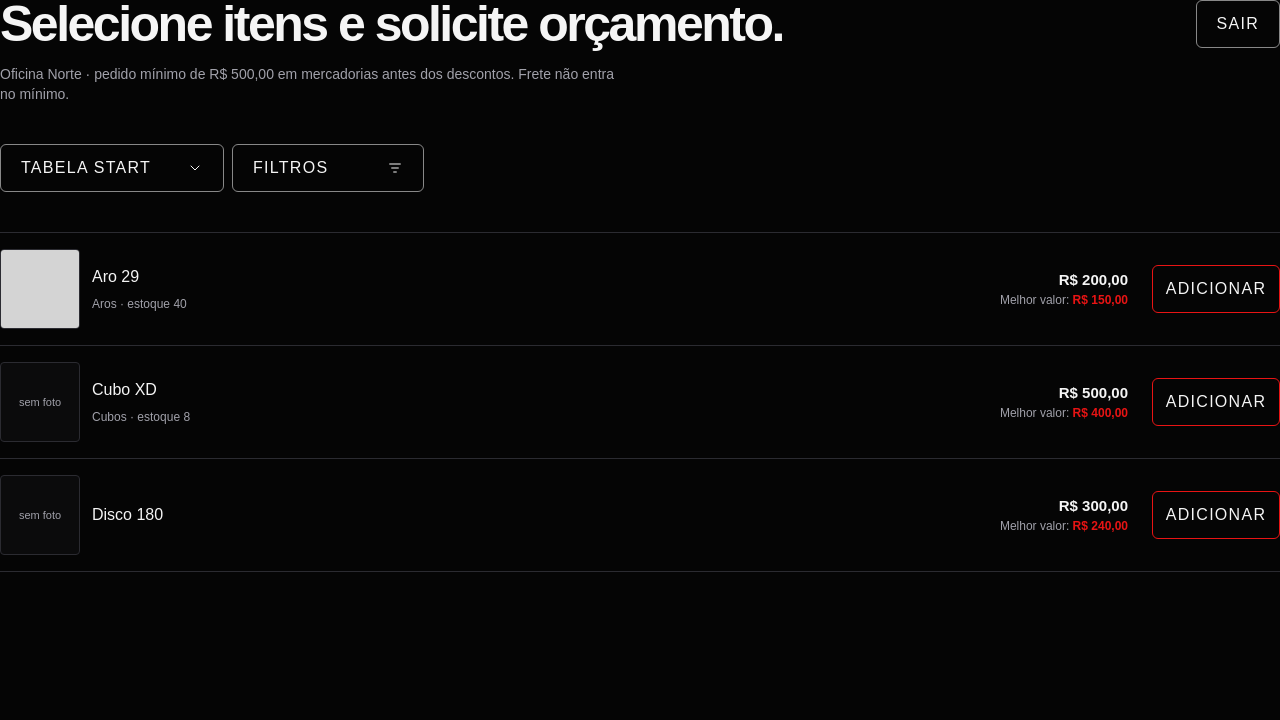
B2BCatalogPage prices › moves every row to Pro once the Start base reaches R$ 1.500
Click the button with aria-label "Adicionar Aro 29 ao pedido".
click(1216, 289)  # box [1152, 265, 1279, 313]
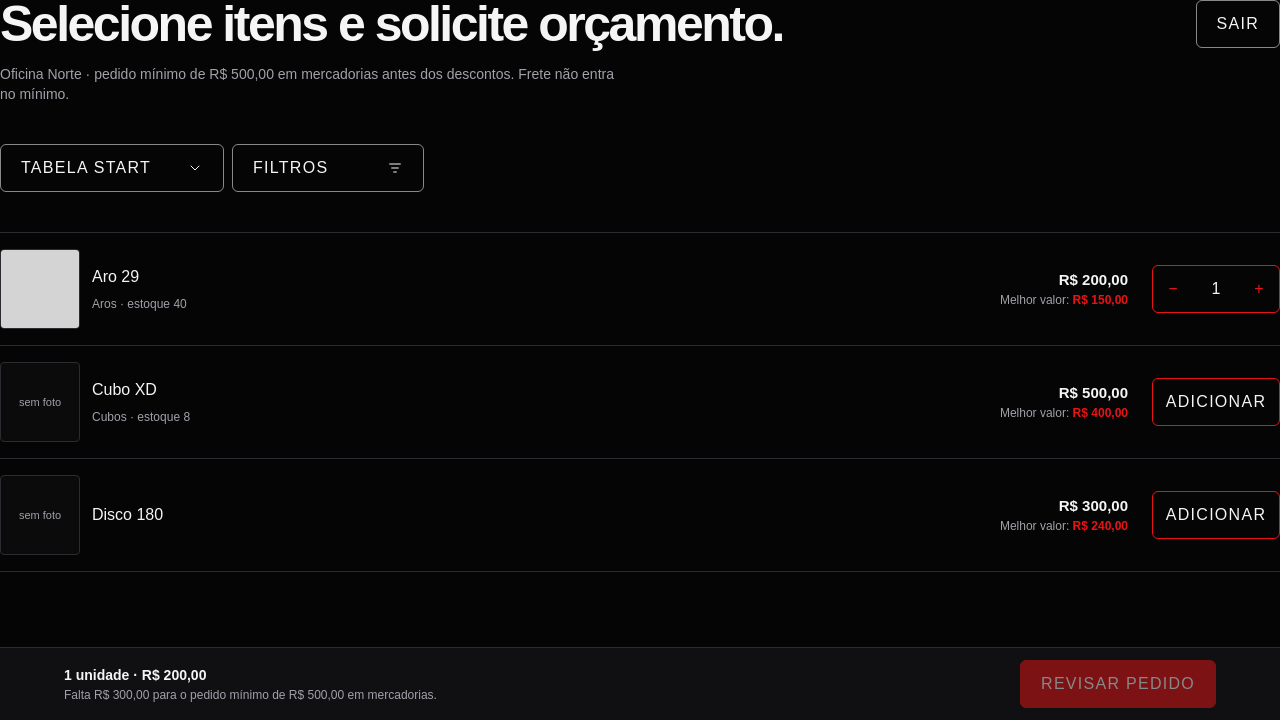
Replace the text in the number field named "Quantidade de Aro 29" with "8" at (1216, 289), box [1193, 276, 1239, 302]
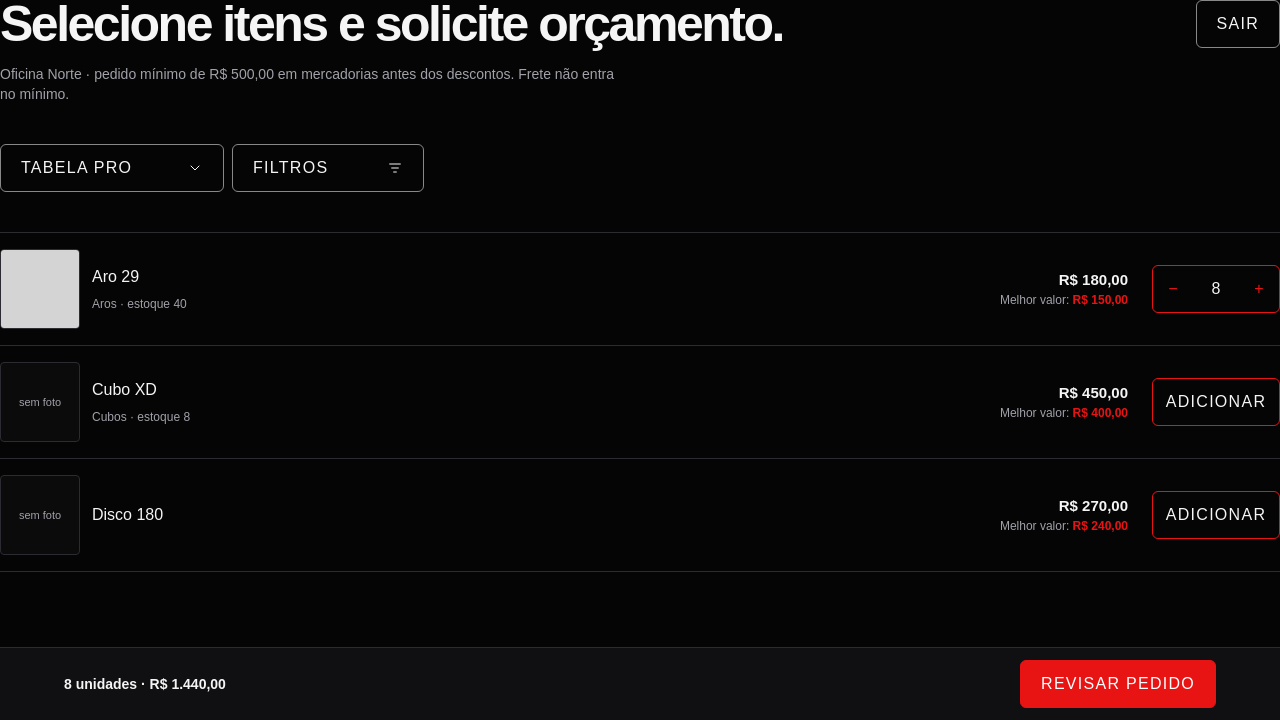
Check: the text "R$ 180,00" is shown, box [1059, 271, 1128, 288]
Check: the text "R$ 270,00" is shown, box [1059, 497, 1128, 514]
Check: the button with aria-label "Tabela atual:" reads "Tabela Pro", box [0, 144, 224, 192]
